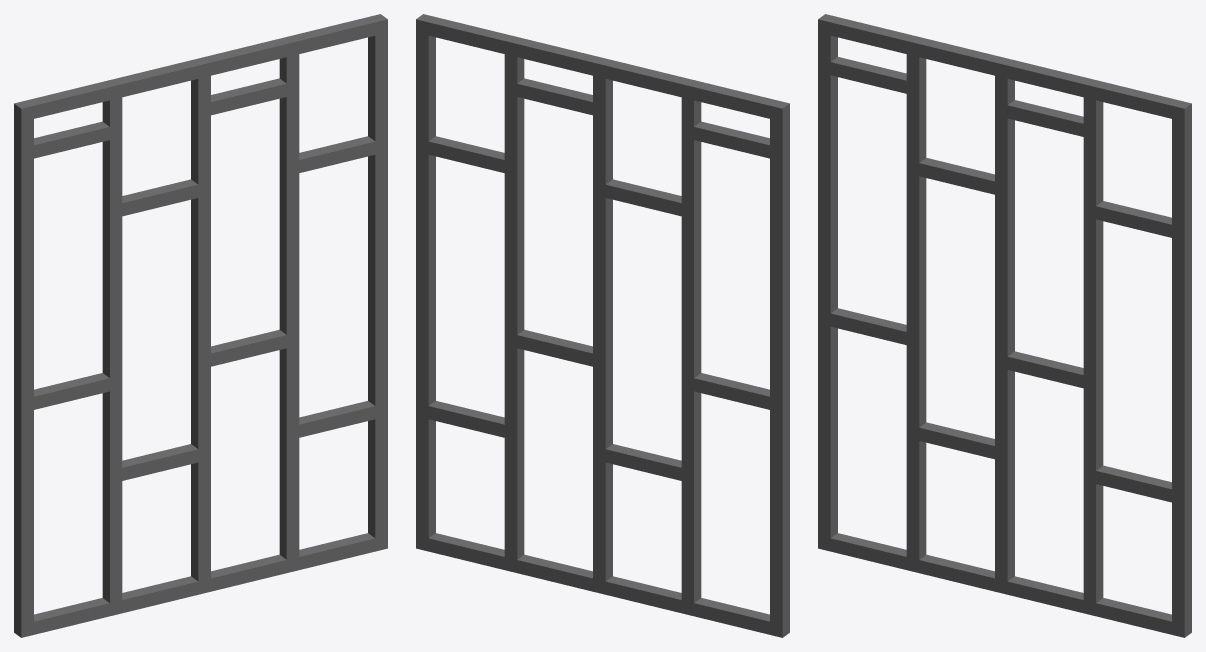
Rendered from Prison-1.obj.
3 views of the same model, side by side, from view 1: azimuth 30°, elevation 25°; view 2: azimuth 150°, elevation 25°; view 3: azimuth 330°, elevation 25° (orthographic).
Size of the model in its own units: 2.9 by 4 by 0.1.
Materials: 1 (1 with a texture image).
